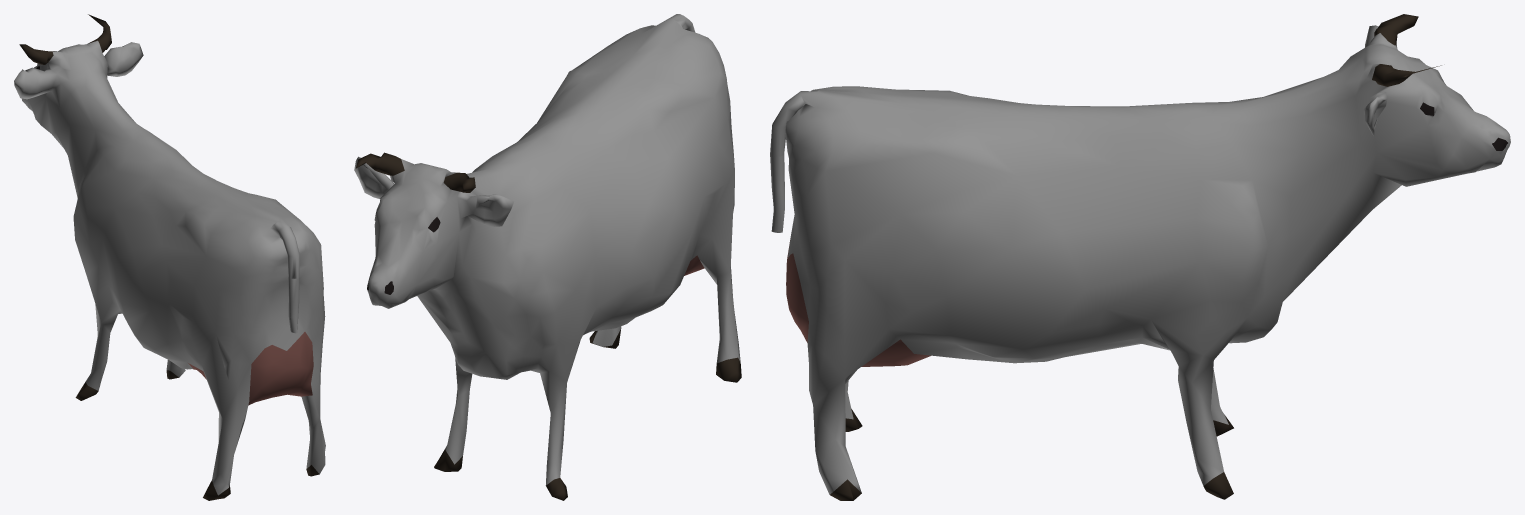
Rendered from cow.obj.
3 views of the same model, side by side, from view 1: azimuth 30°, elevation 25°; view 2: azimuth 150°, elevation 25°; view 3: azimuth 270°, elevation 25° (orthographic). The views are drawn at different scales.
Parts seen in each view (by area): view 1: cow.001_cow__CowHide1.005, cow.001_cow__CowUdder1.001, cow.001_cow__CowHorns1.003, cow.001_cow__CowHooves1.000; view 2: cow.001_cow__CowHide1.005, cow.001_cow__CowHooves1.000, cow.001_cow__CowHorns1.003; view 3: cow.001_cow__CowHide1.005, cow.001_cow__CowUdder1.001, cow.001_cow__CowHorns1.003, cow.001_cow__CowHooves1.000.
Boxes of the visible parts, left/top/right/bottom form: cow.001_cow__CowHide1.005: left=14, top=40, right=325, bottom=495; cow.001_cow__CowUdder1.001: left=188, top=332, right=313, bottom=405; cow.001_cow__CowHorns1.003: left=19, top=14, right=111, bottom=64; cow.001_cow__CowHooves1.000: left=75, top=370, right=319, bottom=500; cow.001_cow__CowHide1.005: left=354, top=14, right=740, bottom=485; cow.001_cow__CowHooves1.000: left=434, top=329, right=741, bottom=500; cow.001_cow__CowHorns1.003: left=356, top=152, right=475, bottom=192; cow.001_cow__CowHide1.005: left=770, top=25, right=1510, bottom=494; cow.001_cow__CowUdder1.001: left=786, top=240, right=930, bottom=366; cow.001_cow__CowHorns1.003: left=1372, top=14, right=1441, bottom=86; cow.001_cow__CowHooves1.000: left=830, top=409, right=1233, bottom=500.
Bounding box in the file's own units: 0.4072 × 0.8687 × 1.36.
